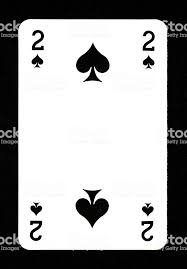two of spades: (18, 19, 167, 249)
